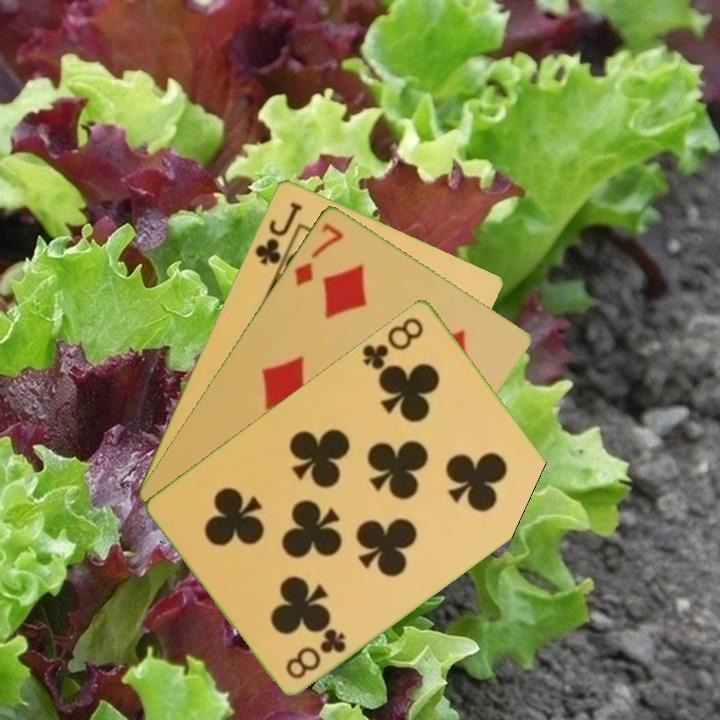7d: (290, 219, 346, 288)
8c: (358, 313, 427, 375), (282, 624, 349, 682)
Jc: (251, 197, 305, 267)
